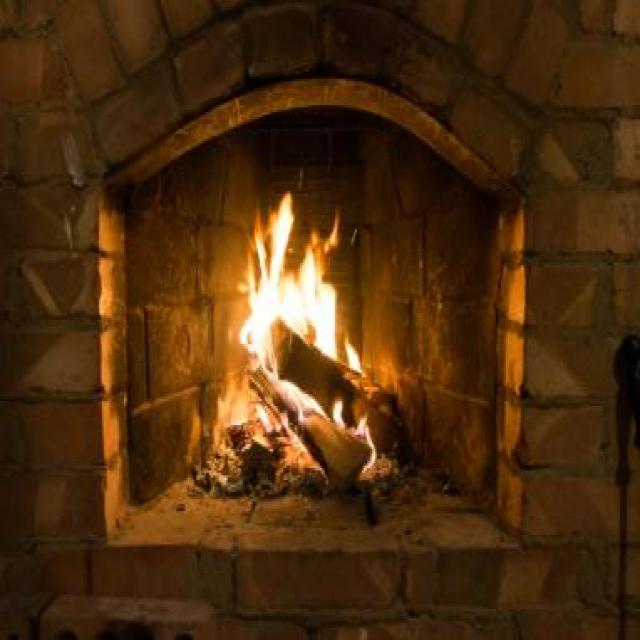Fire_Save: (220, 186, 388, 490)
